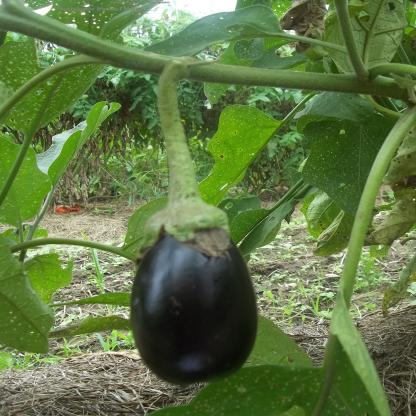--: (120, 45, 265, 386)
